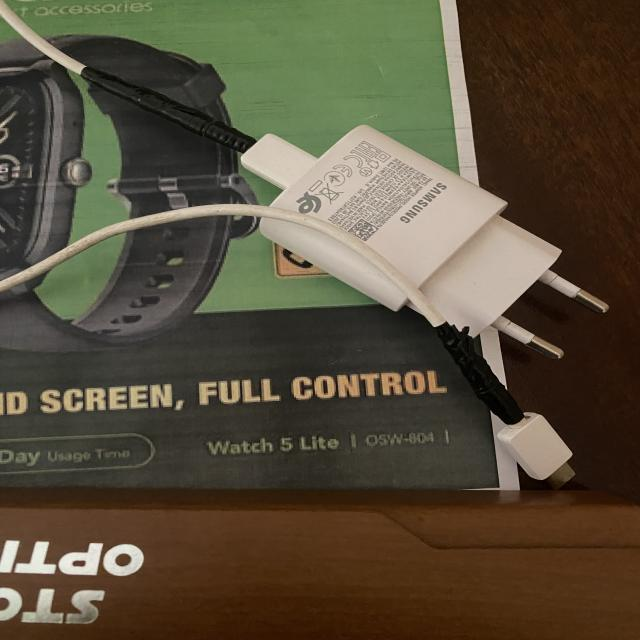Watch 5 Lite OSW-804: (193, 424, 459, 461)
